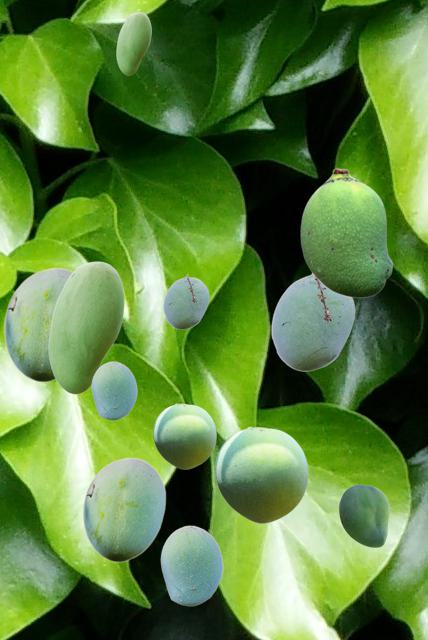green_mango: (300, 168, 392, 297), (48, 261, 123, 393), (215, 426, 307, 522), (82, 457, 165, 561), (271, 273, 354, 370), (3, 267, 72, 381), (160, 525, 222, 605), (153, 403, 215, 468), (339, 484, 388, 546), (91, 361, 136, 419), (163, 274, 208, 328), (116, 12, 150, 74)
